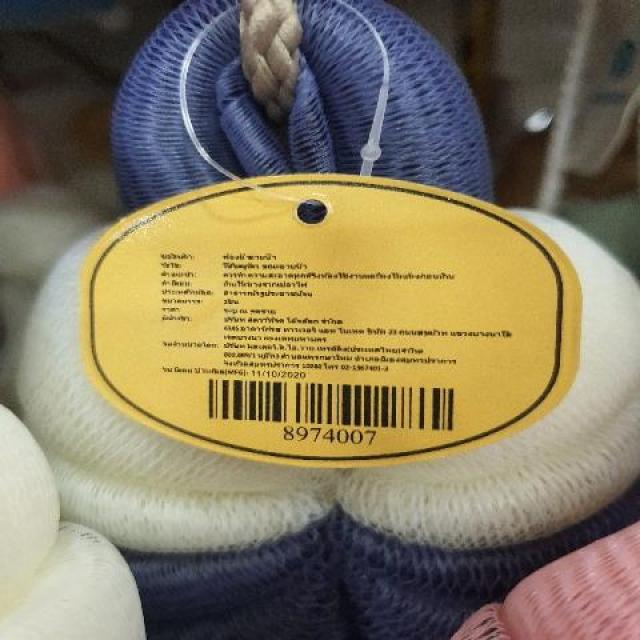Barcode: (195, 371, 472, 450)
